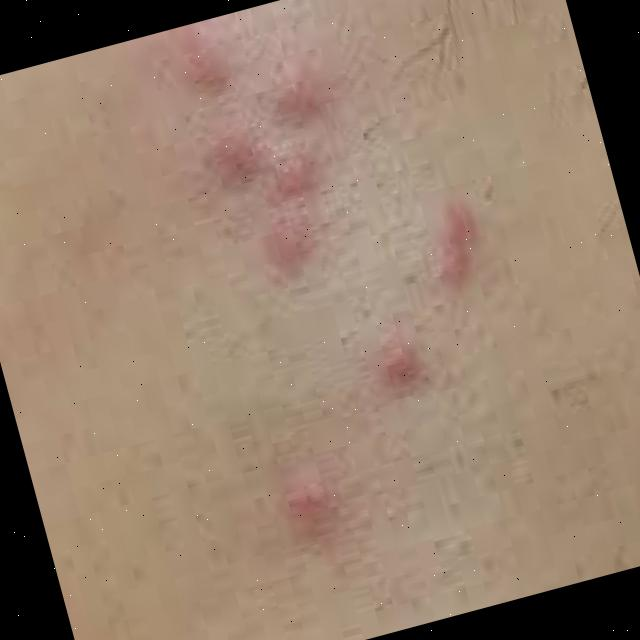kan emici bocekler: (255, 39, 363, 152), (157, 14, 254, 115), (413, 190, 496, 302), (190, 115, 277, 197), (266, 451, 346, 538), (252, 206, 332, 287), (361, 320, 436, 406), (261, 148, 330, 207)
